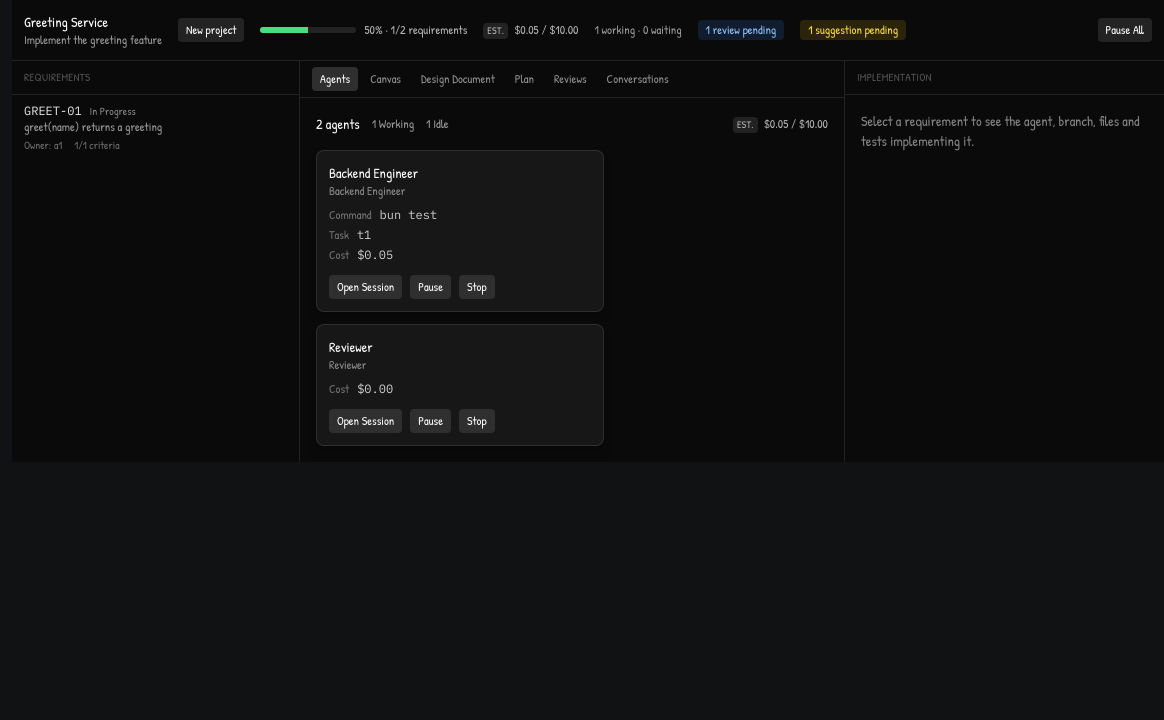
Test: Control Room shell › every tab renders its panel
The width and height of the screenshot is (1164, 720).
Check: the text with test id "project-name" reads "Greeting Service", box x1=24 y1=12 x2=108 y2=31
Check: the number of elements with test id "agent-card" is 2, box x1=316 y1=150 x2=604 y2=312; x1=316 y1=324 x2=604 y2=446
Click the button with test id "tab-document" at (458, 79), box x1=413 y1=67 x2=503 y2=91
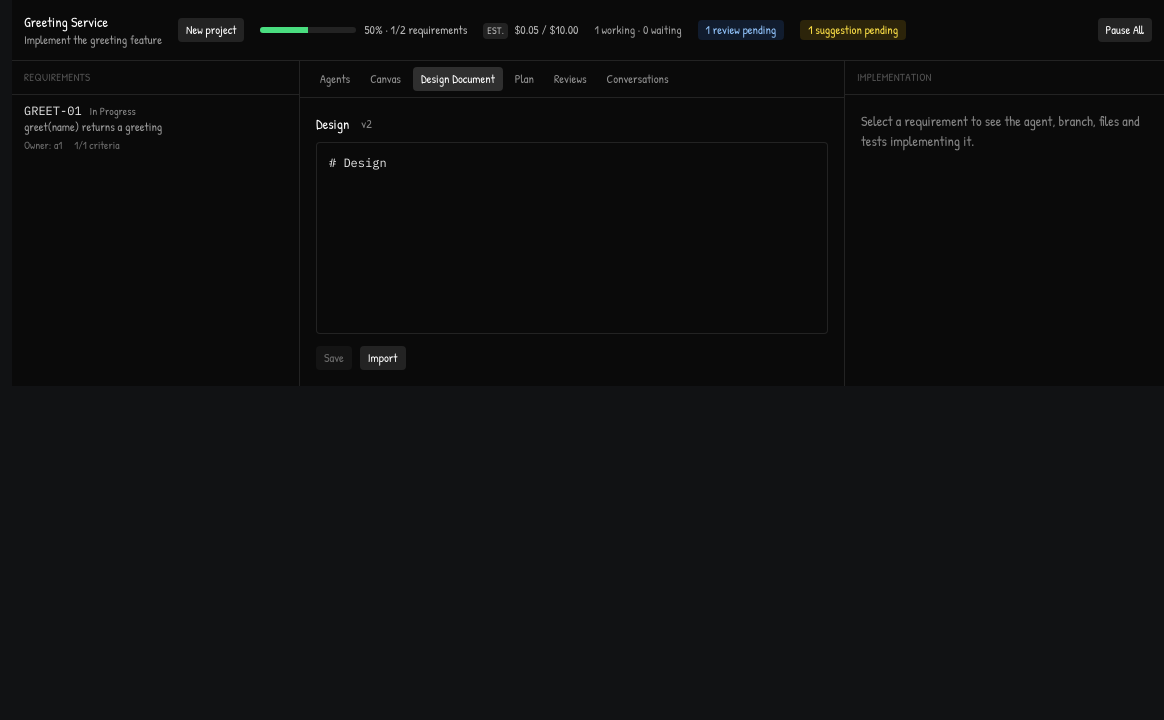
Check: the element with test id "document-panel" is shown, box x1=300 y1=98 x2=844 y2=386
Click the button with test id "tab-reviews" at (570, 79), box x1=546 y1=67 x2=595 y2=91
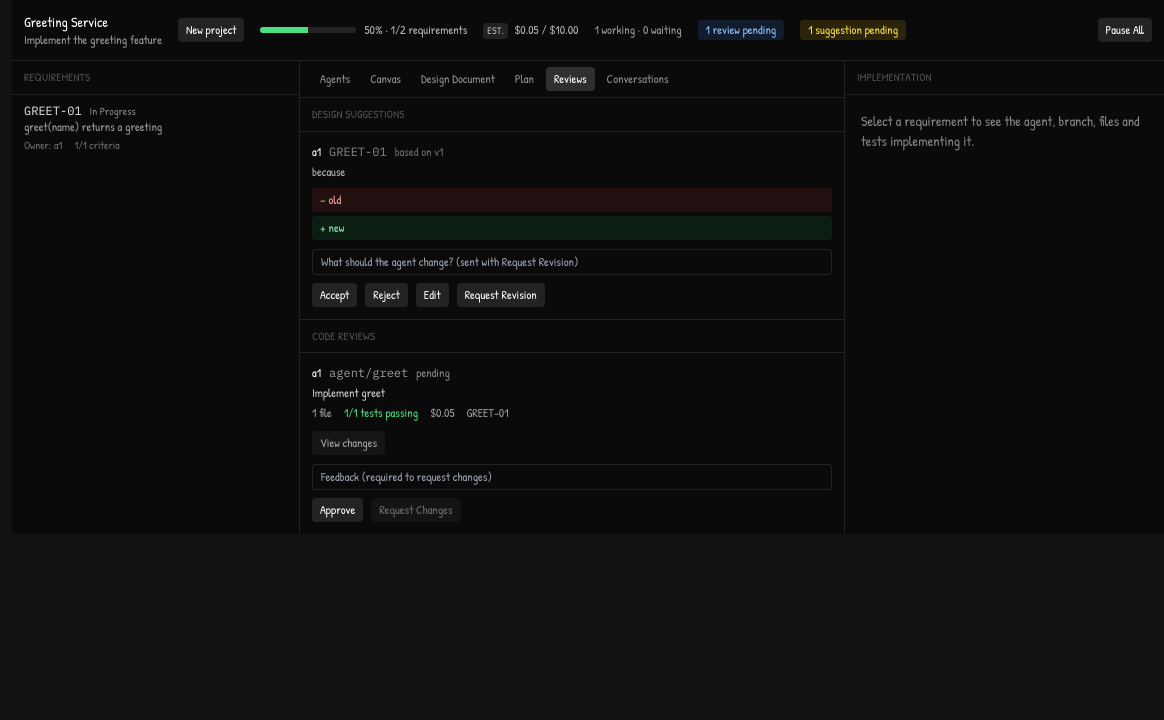
Check: the list with test id "suggestion-queue" is shown, box x1=300 y1=132 x2=844 y2=318
Check: the list with test id "review-queue" is shown, box x1=300 y1=353 x2=844 y2=534
Click the button with test id "tab-conversations" at (638, 79), box x1=599 y1=67 x2=677 y2=91
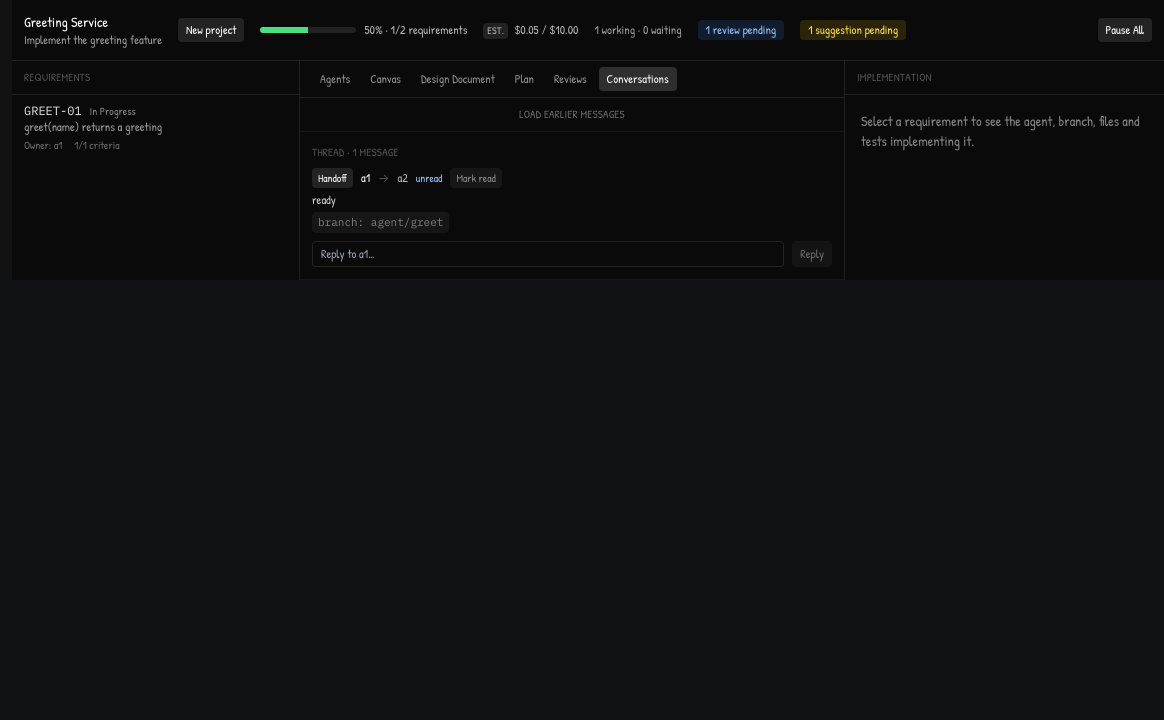
Check: the element with test id "conversation-view" is shown, box x1=300 y1=98 x2=844 y2=280
Click the button with test id "tab-agents" at (335, 79), box x1=312 y1=67 x2=358 y2=91
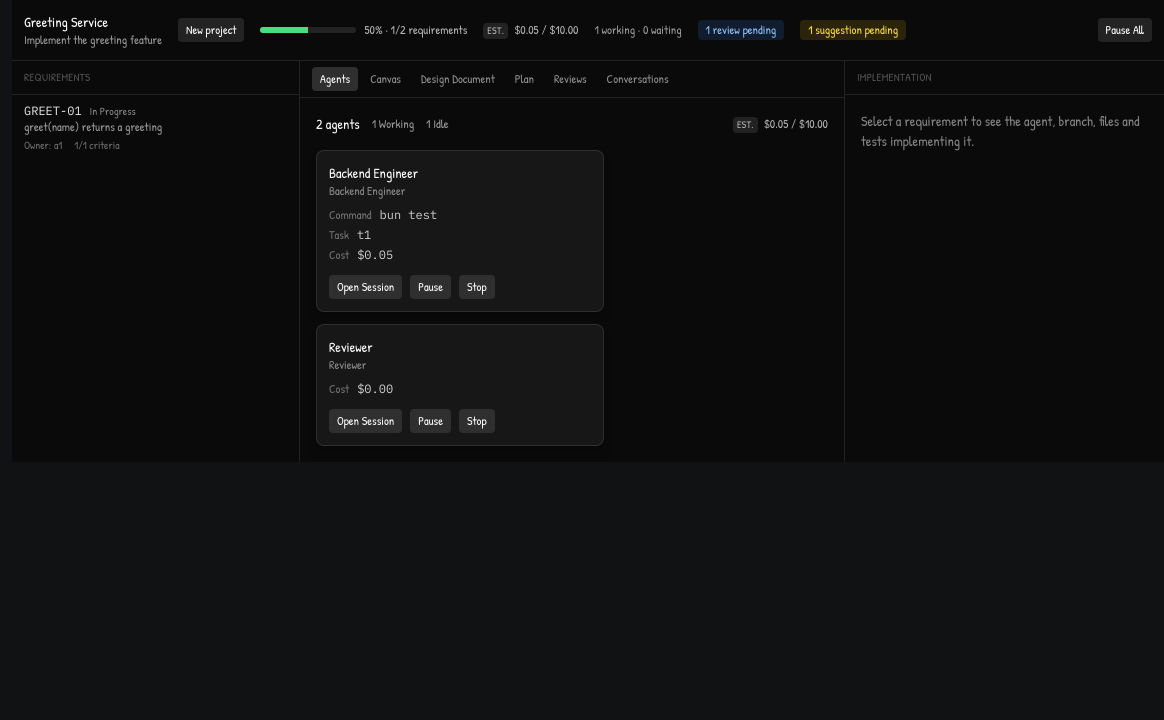
Check: the number of elements with test id "agent-card" is 2, box x1=316 y1=150 x2=604 y2=312; x1=316 y1=324 x2=604 y2=446
